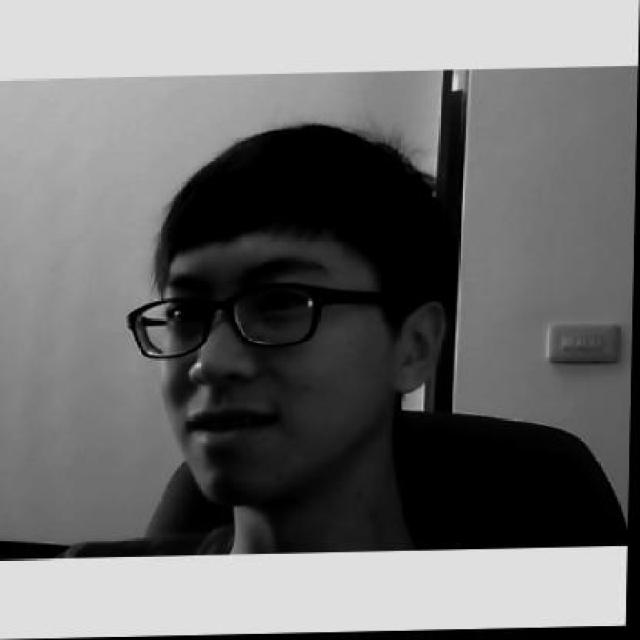attentif: (128, 120, 452, 509)
